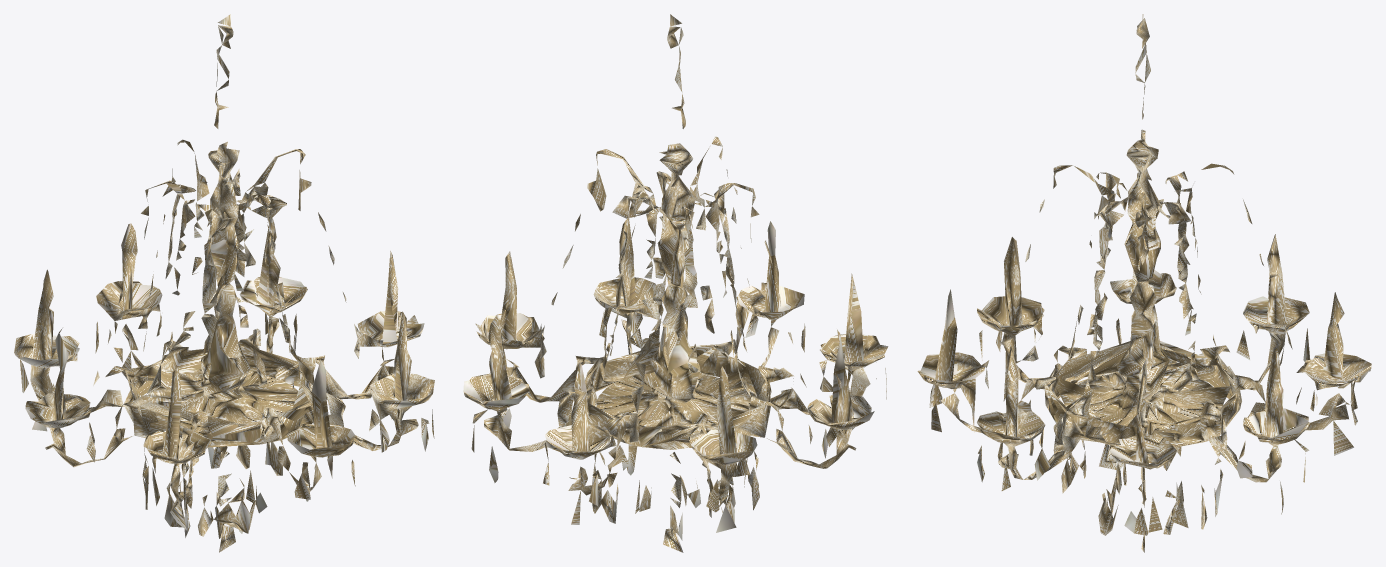
Rendered from chandelier.glb.
3 views of the same model, side by side, from view 1: azimuth 30°, elevation 25°; view 2: azimuth 150°, elevation 25°; view 3: azimuth 270°, elevation 25° (orthographic).
Parts seen in each view (by area): view 1: Mesh_0; view 2: Mesh_0; view 3: Mesh_0.
Boxes of the visible parts, bbox=[...] form: Mesh_0: bbox=[14, 14, 434, 552]; Mesh_0: bbox=[463, 14, 888, 552]; Mesh_0: bbox=[917, 14, 1371, 552].
Size of the model in its own units: 1.42 by 1.87 by 1.42.
Materials: 1 (1 with a texture image).
